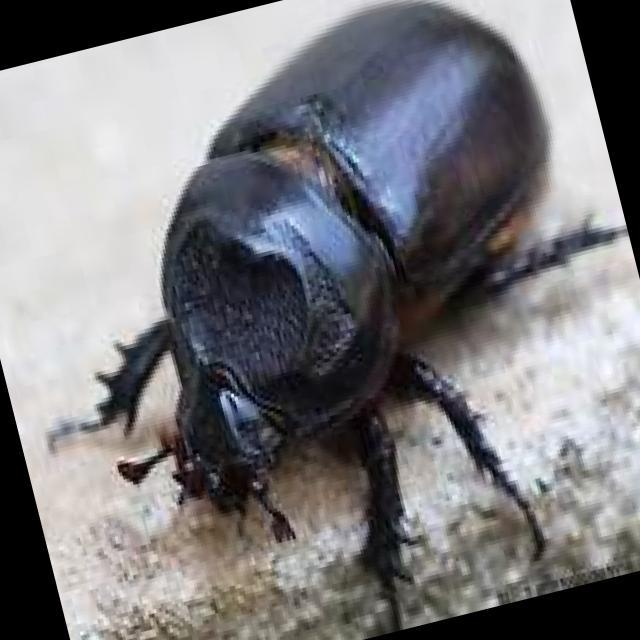Rhino-beetle: (56, 2, 566, 510)
